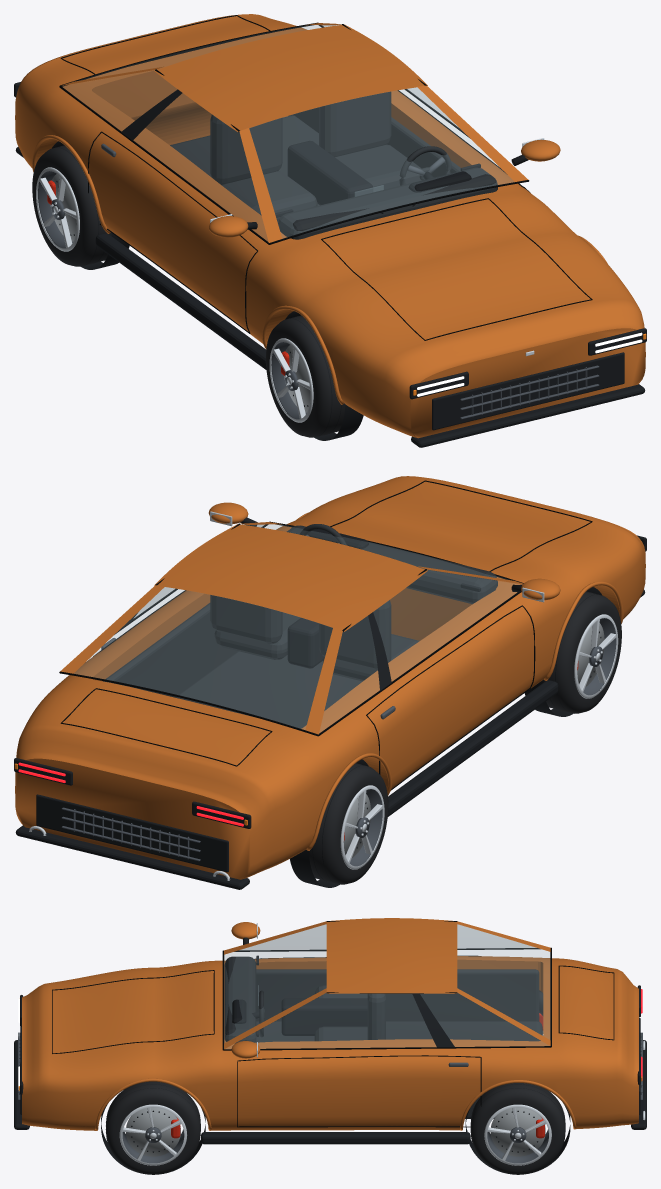
The model's file is coupe.glb.
3 views of the same model, one above another, from view 1: azimuth 30°, elevation 25°; view 2: azimuth 150°, elevation 25°; view 3: azimuth 270°, elevation 25° (orthographic). The views are drawn at different scales.
Visible parts, largest first — view 1: Sculpted body shell.004, Windshield.004, Painted roof.004, Side glass.008, Front grille housing.004, Interior dashboard.004, Tire.018, Interior seat back.015, Tire.016, Rocker aero sill.008, Interior seat back.014, Interior centre console.004 (+28 smaller); view 2: Sculpted body shell.004, Rear glass.004, Painted roof.004, Side glass.008, Interior cabin floor.004, Interior door card.009, Rear diffuser grille.004, Tire.016, Tire.018, Rocker aero sill.008, Interior dashboard.004, Interior seat back.015 (+29 smaller); view 3: Sculpted body shell.004, Side glass.009, Painted roof.004, Interior door card.008, Windshield.004, Rear glass.004, Tire.019, Tire.017, Rocker aero sill.009, Interior cabin floor.004, Interior centre console.004, Interior dashboard.004 (+26 smaller).
Boxes of the visible parts, <box> form: Sculpted body shell.004: <box>15,14,645,438</box>; Windshield.004: <box>250,87,513,237</box>; Painted roof.004: <box>162,25,420,128</box>; Side glass.008: <box>62,71,267,240</box>; Front grille housing.004: <box>432,352,624,430</box>; Interior dashboard.004: <box>278,167,497,239</box>; Tire.018: <box>266,315,345,437</box>; Interior seat back.015: <box>319,91,391,156</box>; Tire.016: <box>32,145,111,266</box>; Rocker aero sill.008: <box>95,233,266,369</box>; Interior seat back.014: <box>210,114,282,184</box>; Interior centre console.004: <box>287,140,372,205</box>; Sculpted body shell.004: <box>15,476,645,879</box>; Rear glass.004: <box>74,587,332,729</box>; Painted roof.004: <box>161,525,421,628</box>; Side glass.008: <box>319,570,518,732</box>; Interior cabin floor.004: <box>175,640,419,728</box>; Interior door card.009: <box>103,603,238,697</box>; Rear diffuser grille.004: <box>36,794,228,872</box>; Tire.016: <box>309,763,388,884</box>; Tire.018: <box>542,591,621,713</box>; Rocker aero sill.008: <box>387,680,558,816</box>; Interior dashboard.004: <box>286,525,497,604</box>; Interior seat back.015: <box>210,595,282,643</box>; Sculpted body shell.004: <box>22,956,638,1130</box>; Side glass.009: <box>226,993,548,1048</box>; Painted roof.004: <box>326,918,457,992</box>; Interior door card.008: <box>256,969,539,1021</box>; Windshield.004: <box>224,925,326,1042</box>; Rear glass.004: <box>457,925,550,1039</box>; Tire.019: <box>106,1081,200,1174</box>; Tire.017: <box>470,1083,565,1174</box>; Rocker aero sill.009: <box>201,1132,470,1144</box>; Interior cabin floor.004: <box>256,1021,542,1042</box>; Interior centre console.004: <box>281,998,367,1035</box>; Interior dashboard.004: <box>224,956,256,1043</box>.
Size of the model in its own units: 2.37 by 1.44 by 4.79.
